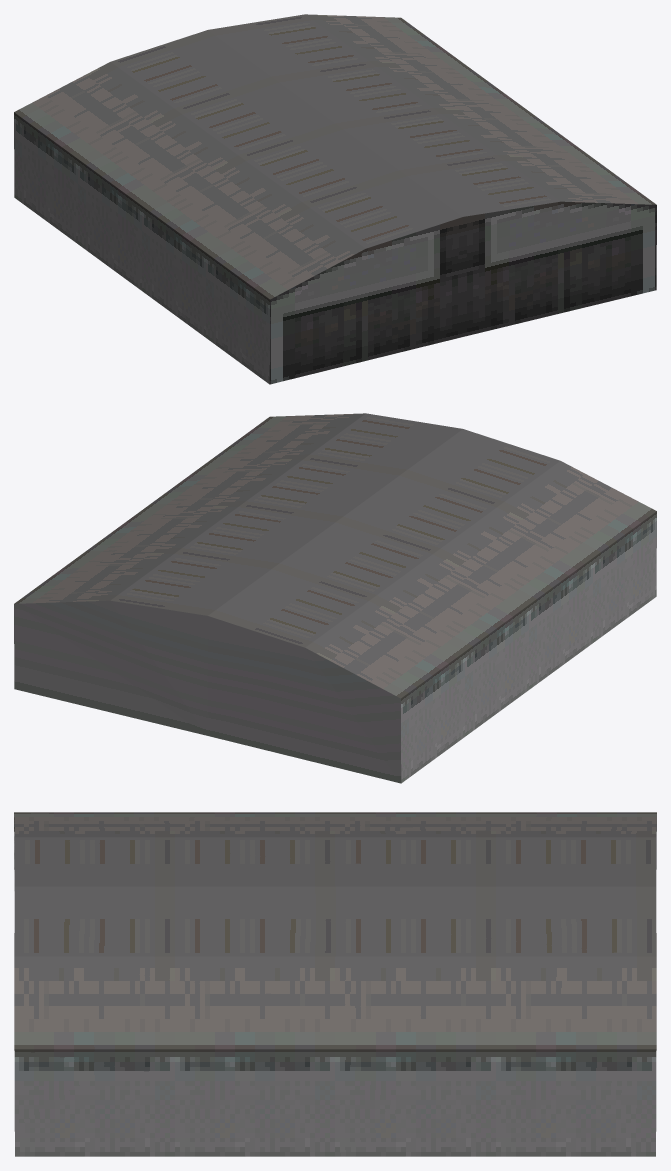
The model's file is lodhangar1_sfxref.obj.
3 renders of one model, top to bottom at view 1: azimuth 30°, elevation 25°; view 2: azimuth 150°, elevation 25°; view 3: azimuth 270°, elevation 25°, orthographic. The views are drawn at different scales.
Visible parts, largest first — view 1: LODhangar1_SFXREF; view 2: LODhangar1_SFXREF; view 3: LODhangar1_SFXREF.
Boxes of the visible parts, x1,y1,x2,y2 form: LODhangar1_SFXREF: (14,14,656,384); LODhangar1_SFXREF: (14,413,656,783); LODhangar1_SFXREF: (14,812,656,1156).
Bounding box in the file's own units: 43.74 × 13.02 × 50.13.
2 materials, 2 textured.
